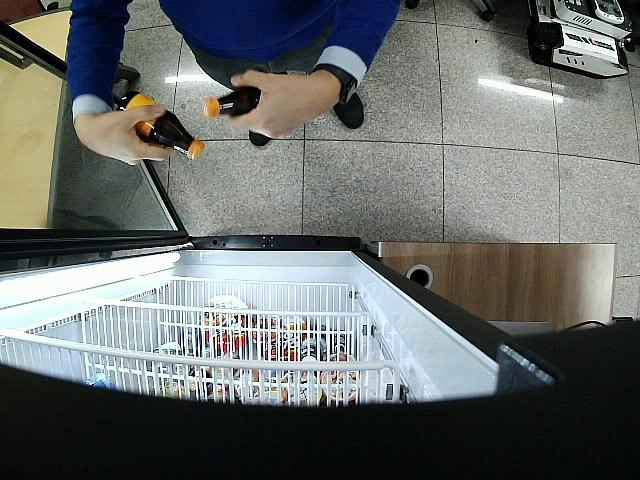00_hand: (230, 68, 340, 141), (83, 105, 173, 170)
17_vita500: (115, 89, 205, 162), (207, 87, 260, 117)
